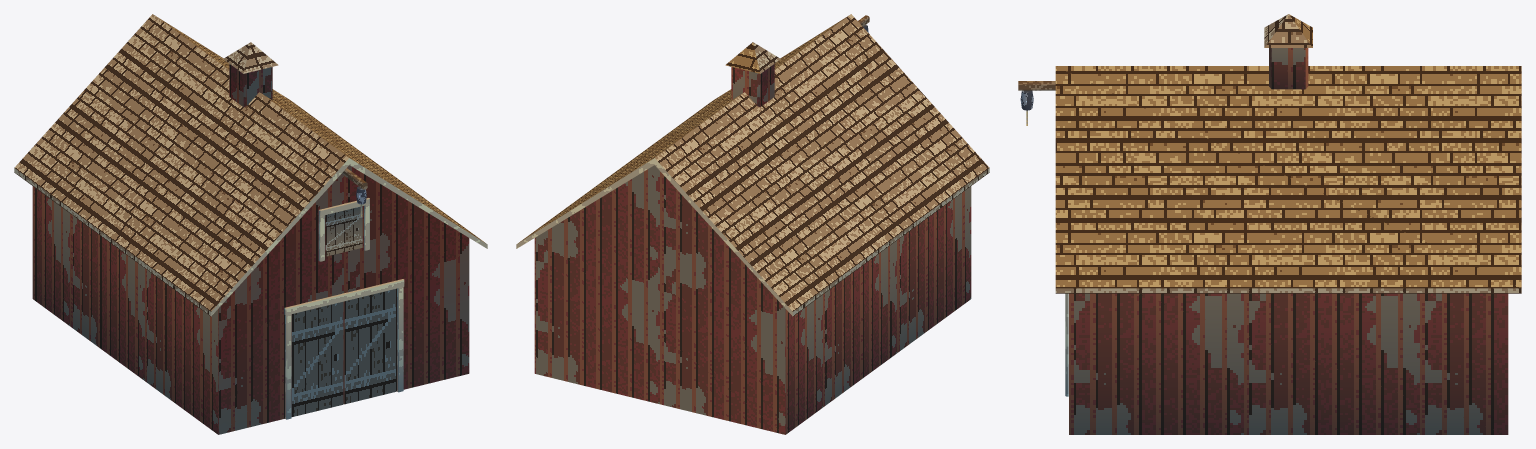
The model's file is wtown.stable__barn.glb.
3 renders of one model, left to right at view 1: azimuth 30°, elevation 25°; view 2: azimuth 150°, elevation 25°; view 3: azimuth 270°, elevation 25°, orthographic. The views are drawn at different scales.
Visible parts, largest first — view 1: kit_roof, kit_body, kit_card_panes, kit_trim, kit_cupola, kit_cupola_cap; view 2: kit_body, kit_roof, kit_cupola, kit_cupola_cap; view 3: kit_roof, kit_body, kit_cupola, kit_cupola_cap, kit_hoist.
Boxes of the visible parts, x1,y1,x2,y2 form: kit_roof: (14,14,487,316); kit_body: (32,165,469,434); kit_card_panes: (292,206,395,416); kit_trim: (284,198,404,419); kit_cupola: (229,64,272,107); kit_cupola_cap: (223,42,278,73); kit_body: (534,165,971,434); kit_roof: (516,14,989,316); kit_cupola: (731,64,774,107); kit_cupola_cap: (725,42,780,73); kit_roof: (1055,66,1521,293); kit_body: (1069,293,1508,434); kit_cupola: (1269,48,1308,89); kit_cupola_cap: (1264,14,1312,47); kit_hoist: (1018,81,1055,110).
Size of the model in its own units: 8.6 by 8.75 by 11.45.
Materials: 7 (7 with a texture image).
